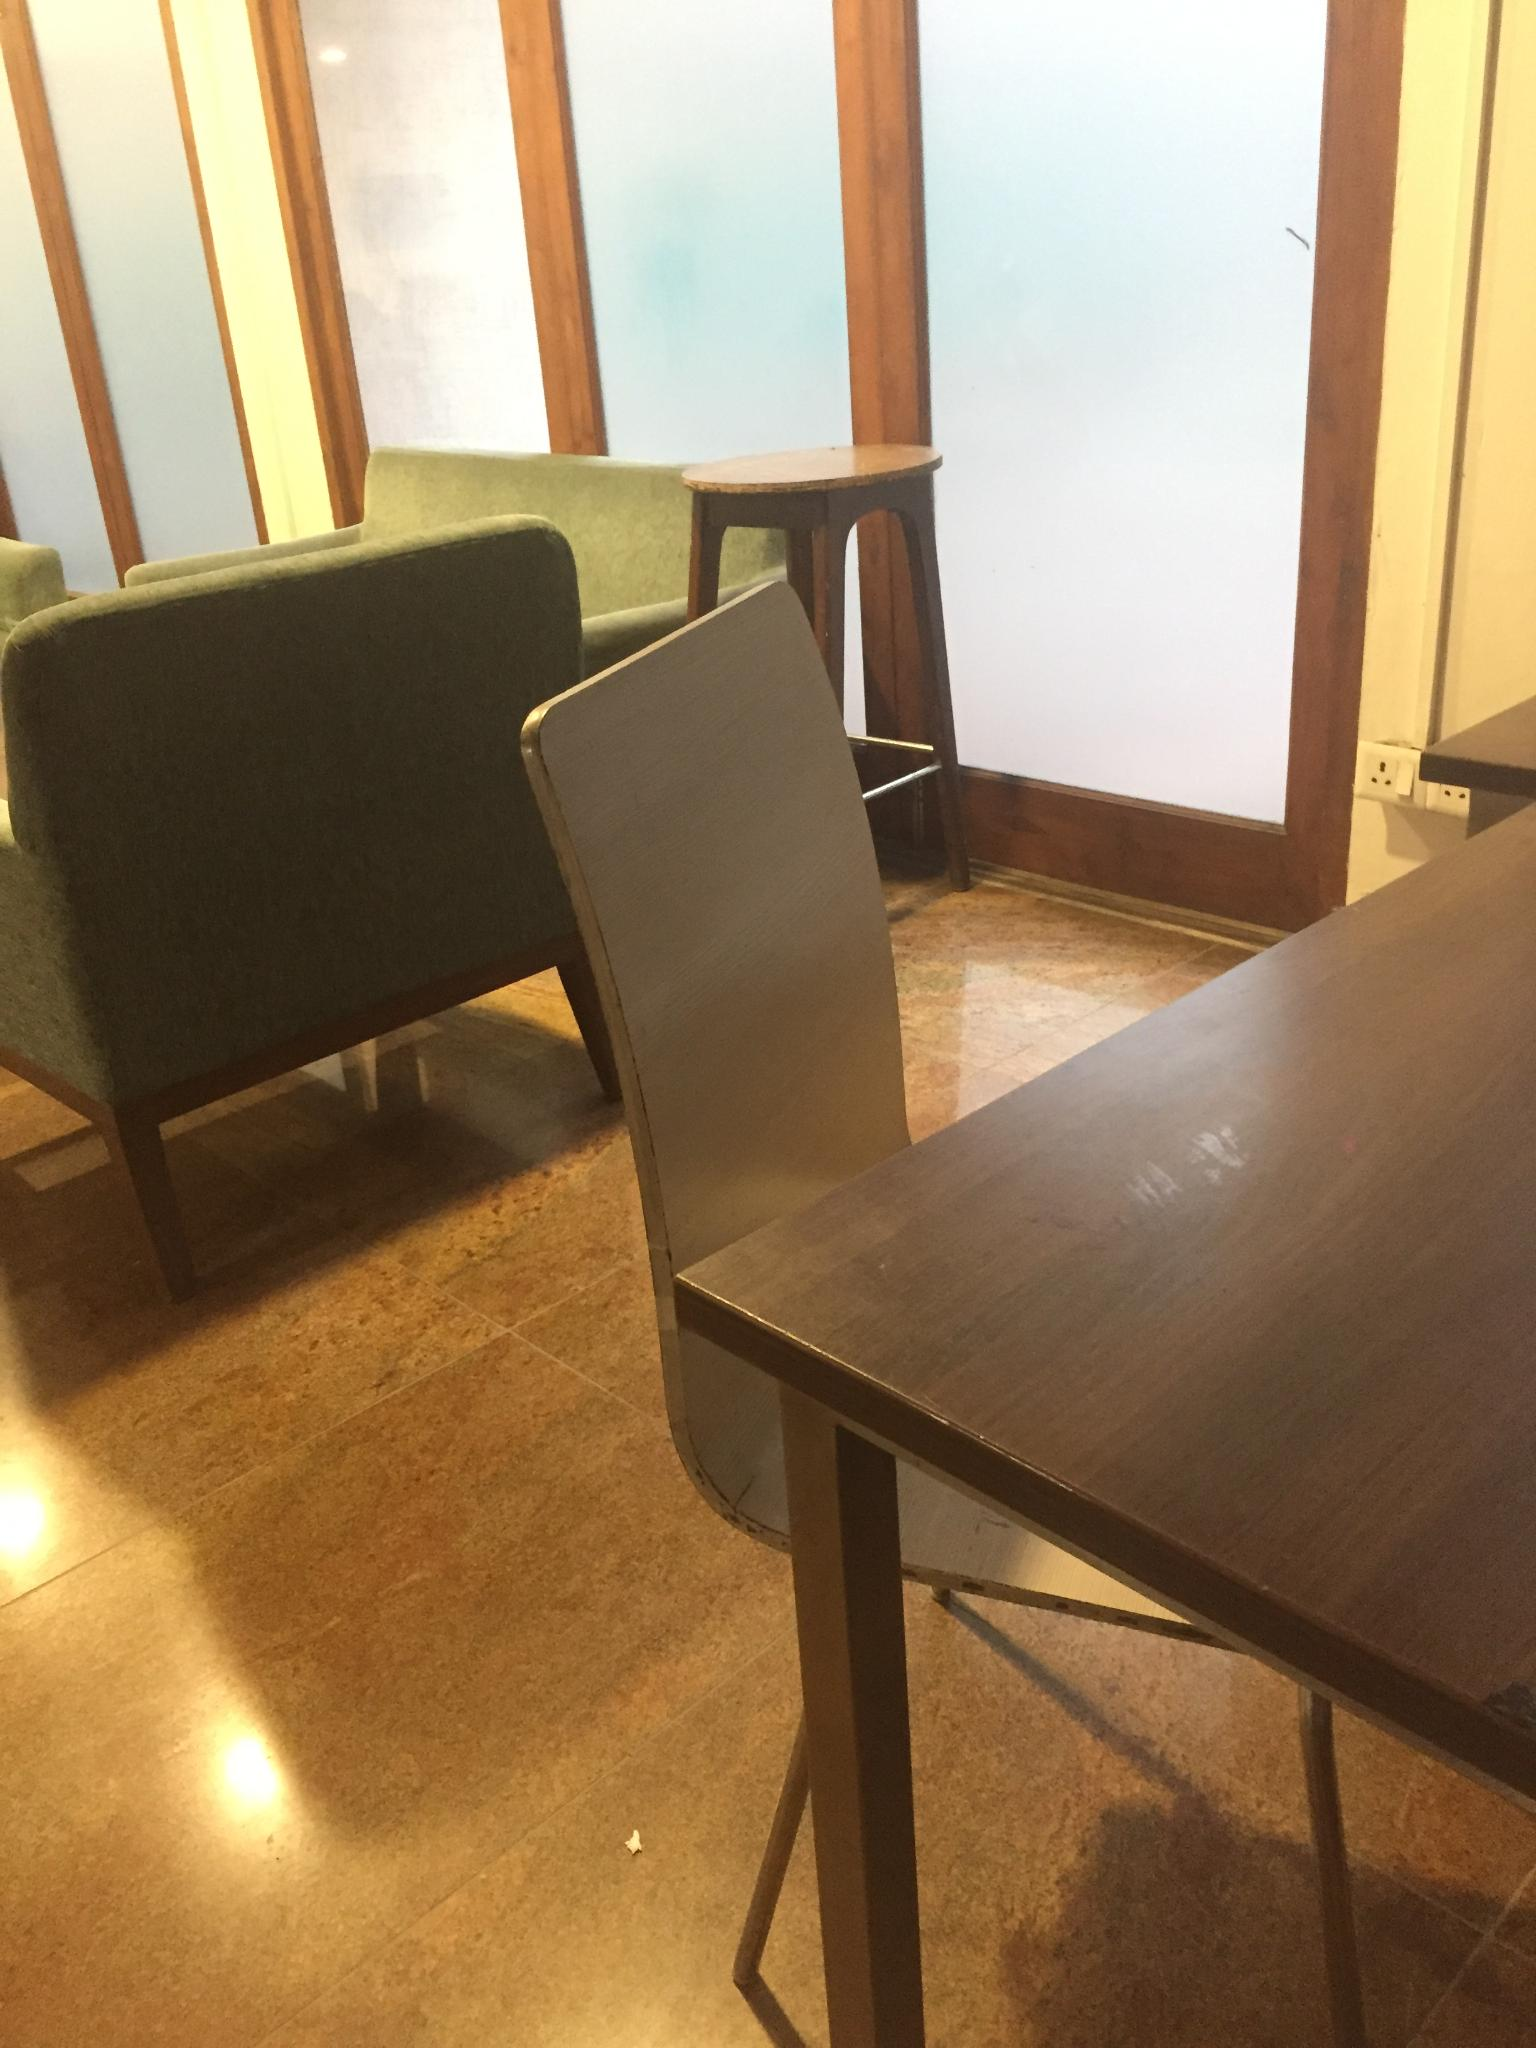chair: (518, 576, 1368, 2042)
